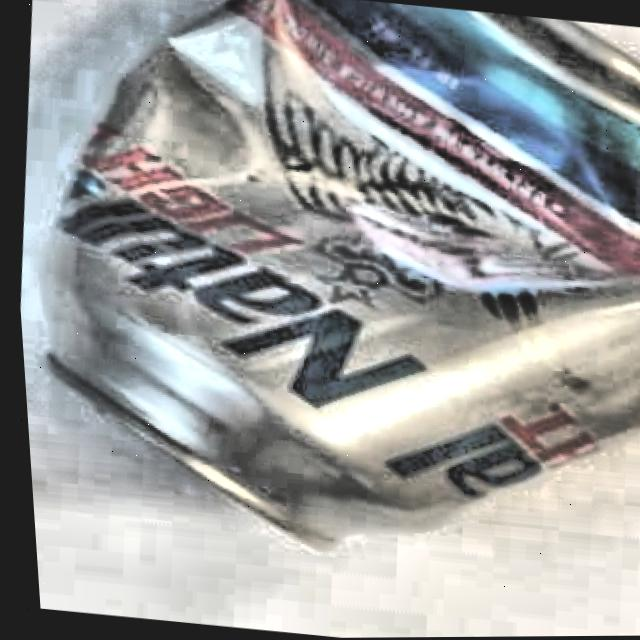metal: (22, 0, 640, 561)
